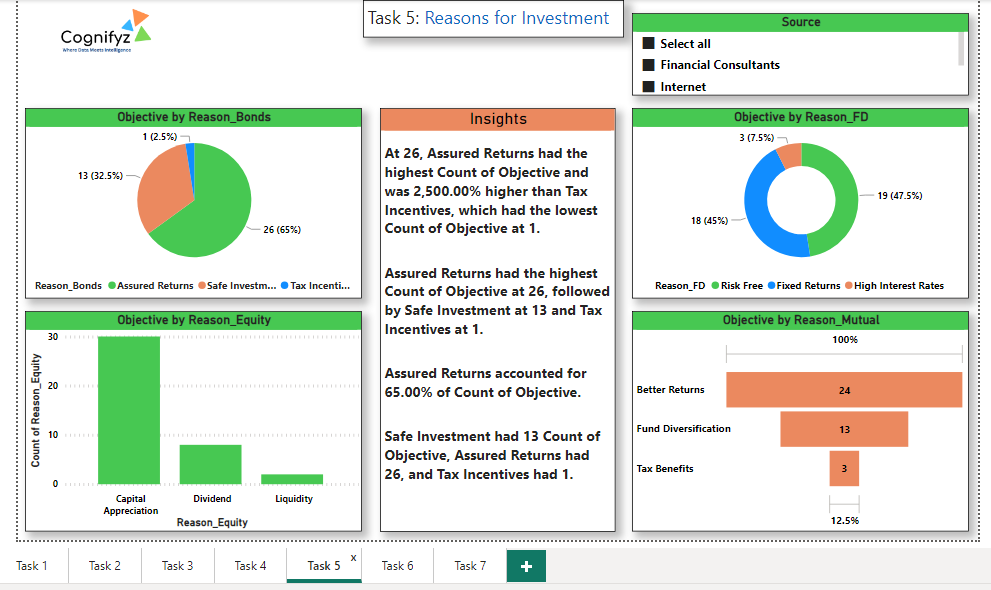

What the dashboard file says about the page in this screenshot:
{"tool":"powerbi","page":{"name":"Task 5","canvas":[1280,720],"ordinal":4},"visuals":[{"type":"image","box":[0,0,231.2,91.3],"z":0},{"type":"textbox","box":[459.5,0,348.2,49.9],"z":1000},{"type":"pieChart","title":"Objective by Reason_Bonds","fields":{"Category":["Data_set 2.Reason_Bonds"],"Y":["CountNonNull(Data_set 2.Reason_Bonds)"]},"box":[10,144.1,449.5,254],"z":2000},{"type":"columnChart","title":"Objective by Reason_Equity","fields":{"Category":["Data_set 2.Reason_Equity"],"Y":["CountNonNull(Data_set 2.Reason_Equity)"]},"box":[10,415.3,449.5,294],"z":3000},{"type":"donutChart","title":"Objective by Reason_FD","fields":{"Category":["Data_set 2.Reason_FD"],"Y":["CountNonNull(Data_set 2.Reason_FD)"]},"box":[819.1,144.1,449.5,254],"z":4000},{"type":"funnel","title":"Objective by Reason_Mutual","fields":{"Y":["CountNonNull(Data_set 2.Reason_Mutual)"],"Category":["Data_set 2.Reason_Mutual"]},"box":[819.1,415.3,449.5,294],"z":5000},{"type":"slicer","title":"Source","fields":{"Values":["Data_set 2.Source"]},"box":[819.1,17.1,449.5,109.9],"z":6000},{"type":"textbox","title":"Insights","box":[482.3,144.1,313.9,565.1],"z":7000}]}

Visuals, with their boxes in screenshot pixels (x1, y1, x2, y2):
image: <bbox>8, 0, 184, 62</bbox>
textbox: <bbox>359, 0, 624, 30</bbox>
"Objective by Reason_Bonds" pieChart: <bbox>15, 102, 359, 296</bbox>
"Objective by Reason_Equity" columnChart: <bbox>15, 309, 359, 534</bbox>
"Objective by Reason_FD" donutChart: <bbox>633, 102, 976, 296</bbox>
"Objective by Reason_Mutual" funnel: <bbox>633, 309, 976, 534</bbox>
"Source" slicer: <bbox>633, 5, 976, 89</bbox>
"Insights" textbox: <bbox>376, 102, 616, 534</bbox>
